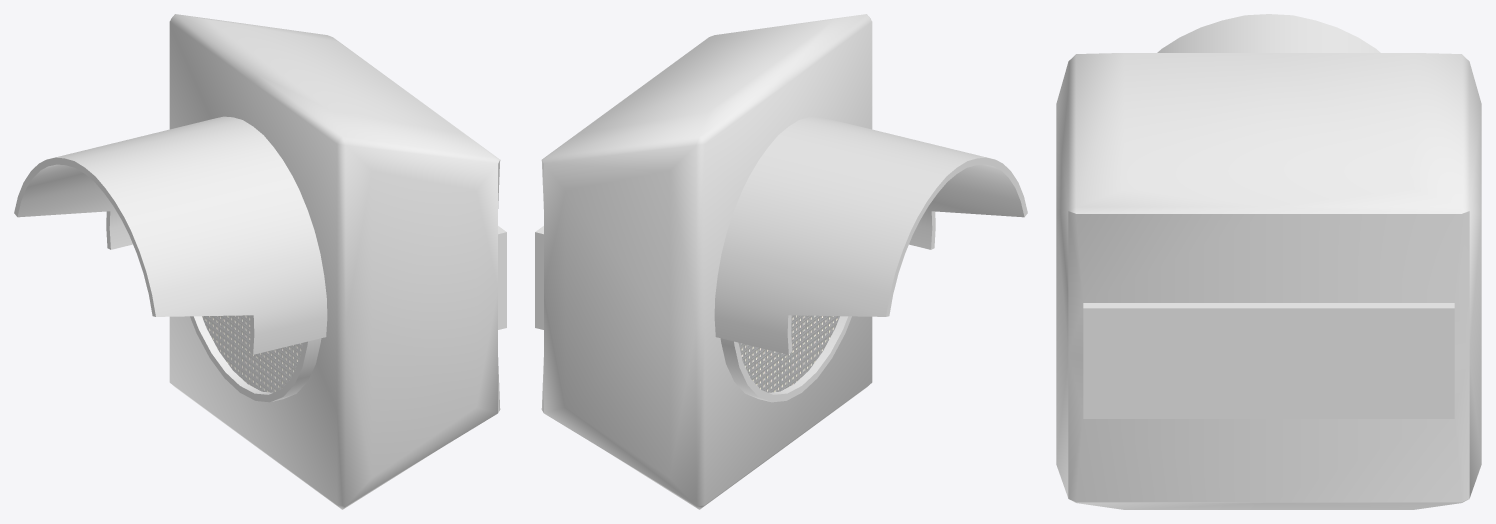
Rendered from 车道信号灯.glb.
3 views of the same model, side by side, from view 1: azimuth 30°, elevation 25°; view 2: azimuth 150°, elevation 25°; view 3: azimuth 270°, elevation 25° (orthographic). The views are drawn at different scales.
Parts seen in each view (by area): view 1: 车道信号灯; view 2: 车道信号灯; view 3: 车道信号灯.
Boxes of the visible parts, x1,y1,x2,y2 form: 车道信号灯: [14, 14, 506, 509]; 车道信号灯: [535, 14, 1027, 509]; 车道信号灯: [1056, 14, 1481, 509].
Bounding box in the file's own units: 0.6 × 0.65 × 0.5618.
2 materials, 1 textured.
